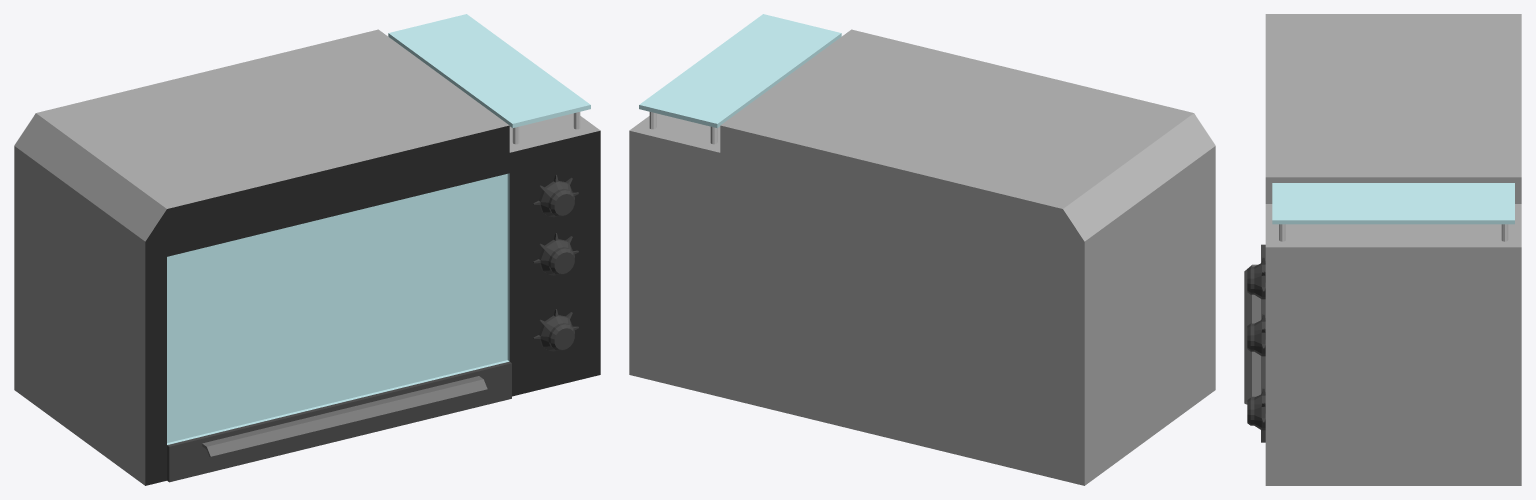
Rendered from Prop_Oven.fbx.
3 views of the same model, side by side, from view 1: azimuth 30°, elevation 25°; view 2: azimuth 150°, elevation 25°; view 3: azimuth 270°, elevation 25° (orthographic). The views are drawn at different scales.
Parts seen in each view (by area): view 1: Prop_Oven; view 2: Prop_Oven; view 3: Prop_Oven.
Part boxes in pixels (x1,y1,x2,y2): Prop_Oven: [14, 14, 600, 485]; Prop_Oven: [629, 14, 1215, 485]; Prop_Oven: [1244, 14, 1521, 485].
Bounding box in the file's own units: 69.89 × 39.84 × 37.77.
